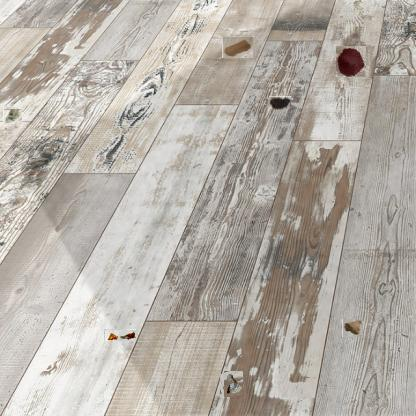dirty: (222, 36, 253, 58), (222, 373, 245, 396), (342, 319, 363, 337), (105, 329, 136, 341), (3, 106, 22, 124)
liquid: (336, 46, 367, 76), (269, 96, 291, 111)
